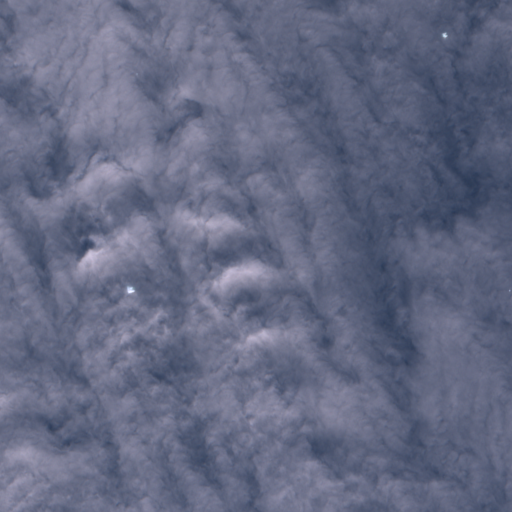Iceberg: (127, 287, 134, 293), (442, 32, 447, 38), (509, 290, 510, 291)
